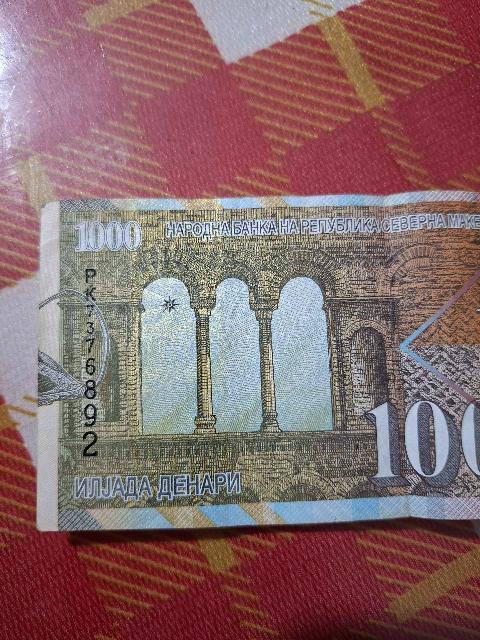1000_note: (38, 192, 479, 530)
